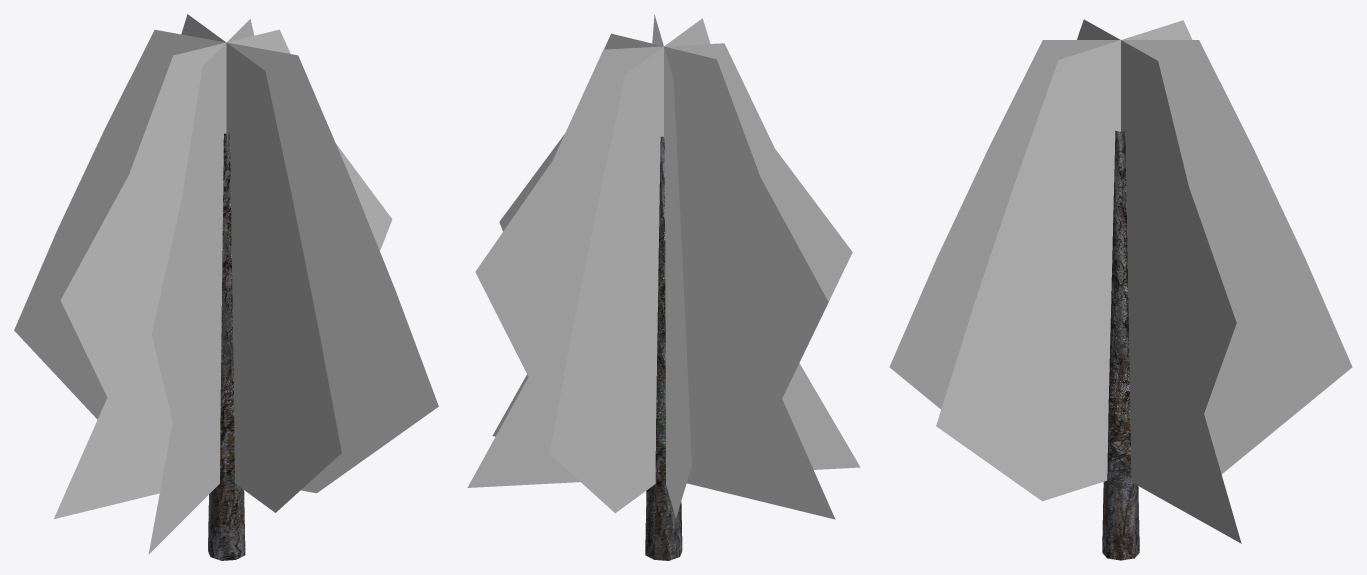
File: tree-2.fbx
The picture shows the model from 3 angles, left to right: view 1: azimuth 30°, elevation 25°; view 2: azimuth 150°, elevation 25°; view 3: azimuth 270°, elevation 25°; orthographic projection.
Parts seen in each view (by area): view 1: Plane.061; view 2: Plane.061; view 3: Plane.061.
Part boxes in pixels (x1=…): Plane.061: x1=14, y1=14, x2=438, y2=560; Plane.061: x1=467, y1=15, x2=860, y2=560; Plane.061: x1=889, y1=19, x2=1352, y2=560.
Bounding box in the file's own units: 1284 × 1811 × 1484.
3 materials, 1 textured.
